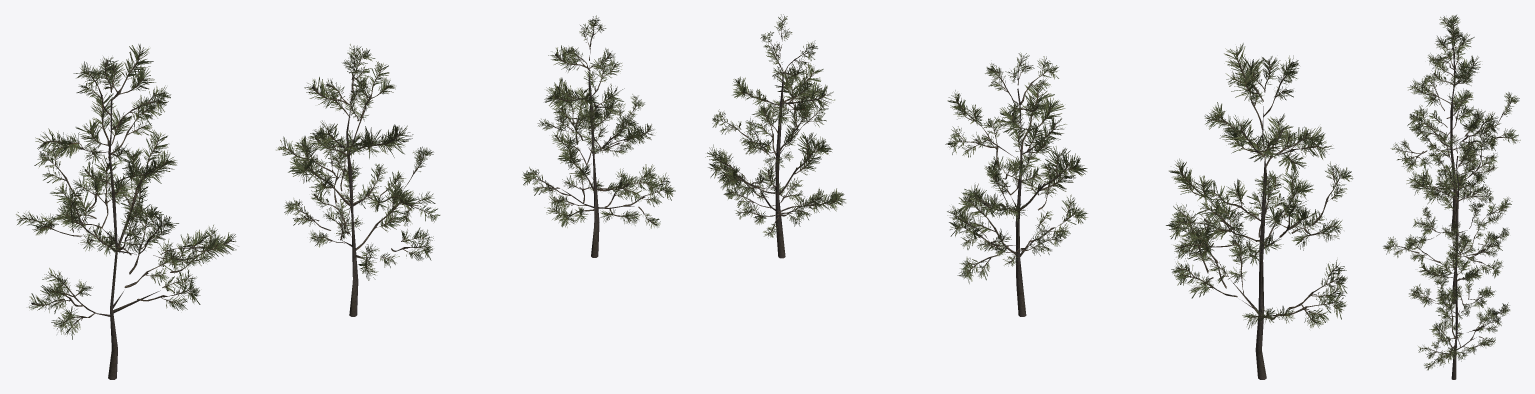
File: pine_sapling_small.glb
3 renders of one model, left to right at view 1: azimuth 30°, elevation 25°; view 2: azimuth 150°, elevation 25°; view 3: azimuth 270°, elevation 25°, orthographic. The views are drawn at different scales.
Parts seen in each view (by area): view 1: pine_sapling_small_a, pine_sapling_small_b, pine_sapling_small_c; view 2: pine_sapling_small_a, pine_sapling_small_b, pine_sapling_small_c; view 3: pine_sapling_small_a, pine_sapling_small_b, pine_sapling_small_c.
Part boxes in pixels (x1,y1,x2,y2): pine_sapling_small_a: [16, 44, 238, 379]; pine_sapling_small_b: [276, 44, 440, 316]; pine_sapling_small_c: [522, 15, 675, 257]; pine_sapling_small_a: [1166, 43, 1353, 379]; pine_sapling_small_b: [945, 52, 1087, 316]; pine_sapling_small_c: [705, 14, 845, 258]; pine_sapling_small_a: [1390, 15, 1520, 231]; pine_sapling_small_b: [1383, 134, 1512, 304]; pine_sapling_small_c: [1409, 224, 1510, 379].
Size of the model in its own units: 2.64 by 1.3 by 0.7703.
Materials: 2 (2 with a texture image).
